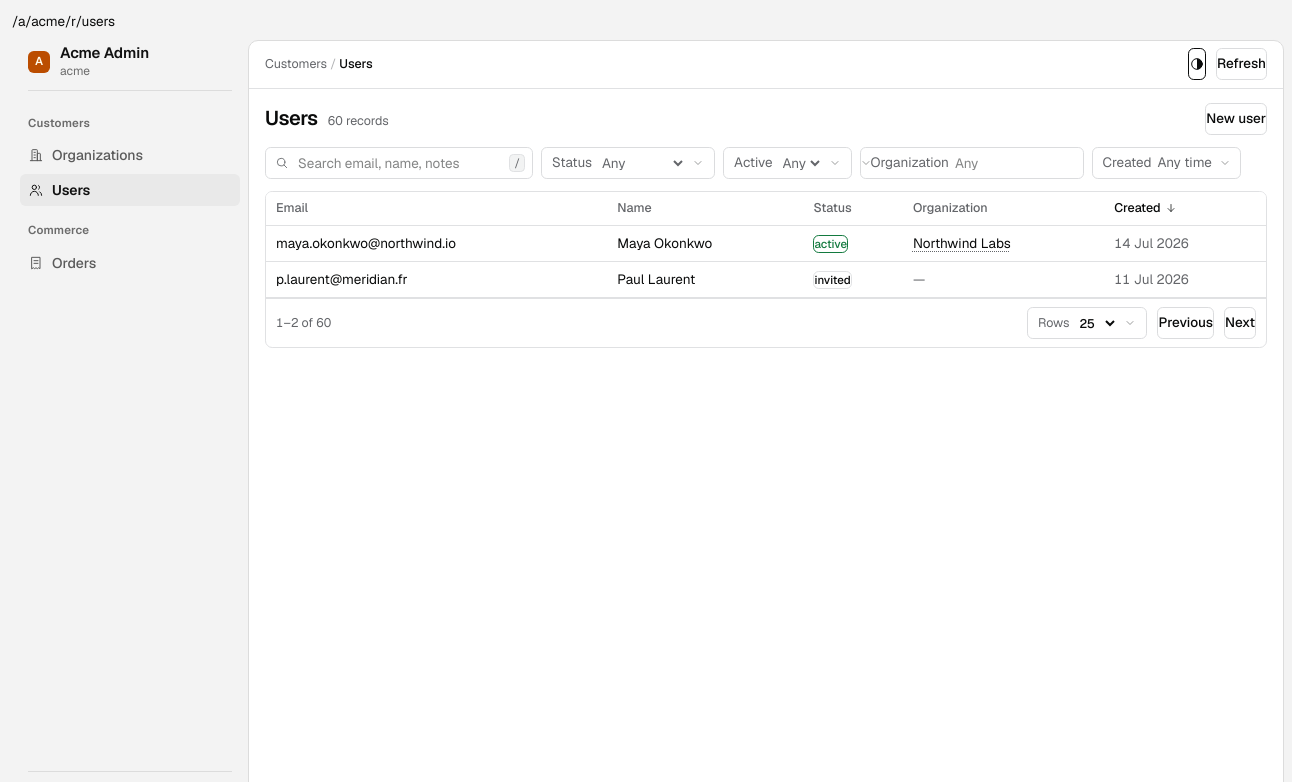
Test: the table page › pages, and says which page it is on
expect the text "1–2 of 60" is shown: met, box [276,314,331,332]
Click the button "Next": click(1240, 323) [1224,307,1256,339]
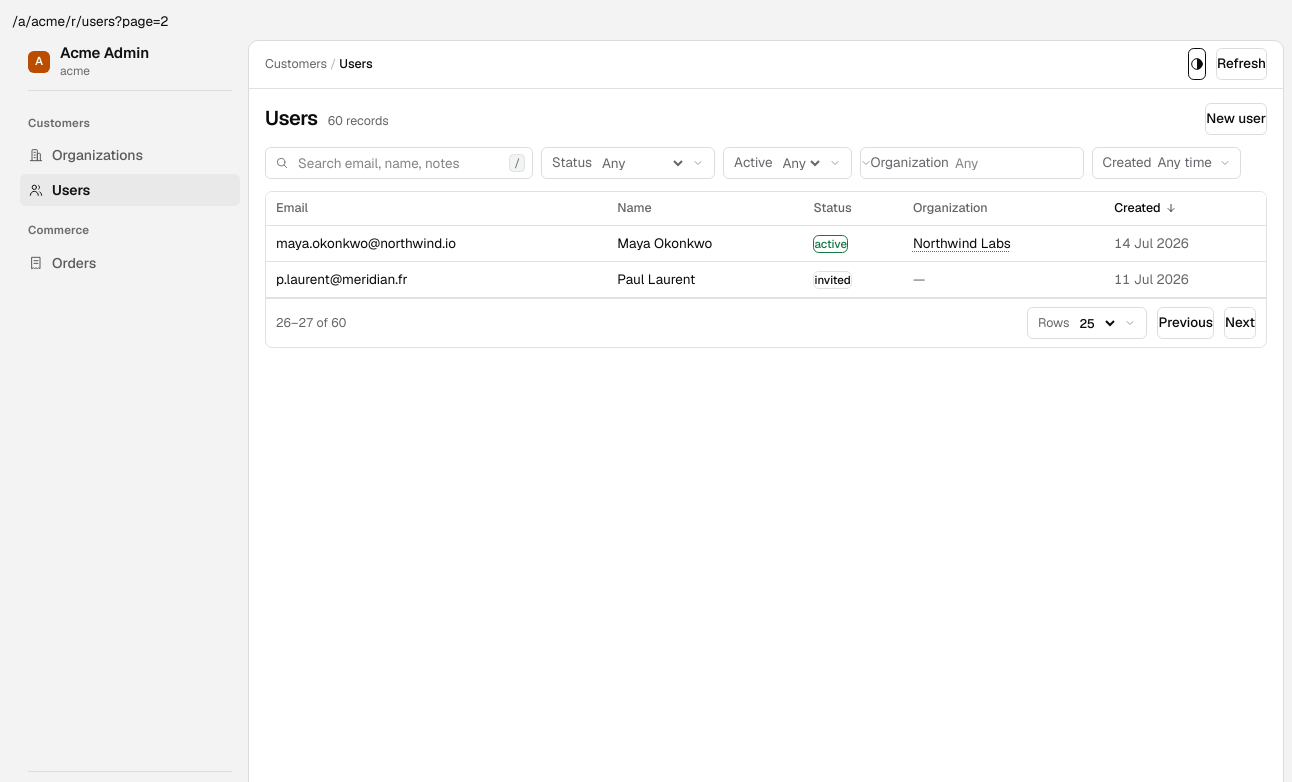
expect the text with test id "url" reads "/a/acme/r/users?page=2": met, box [12,12,168,30]
